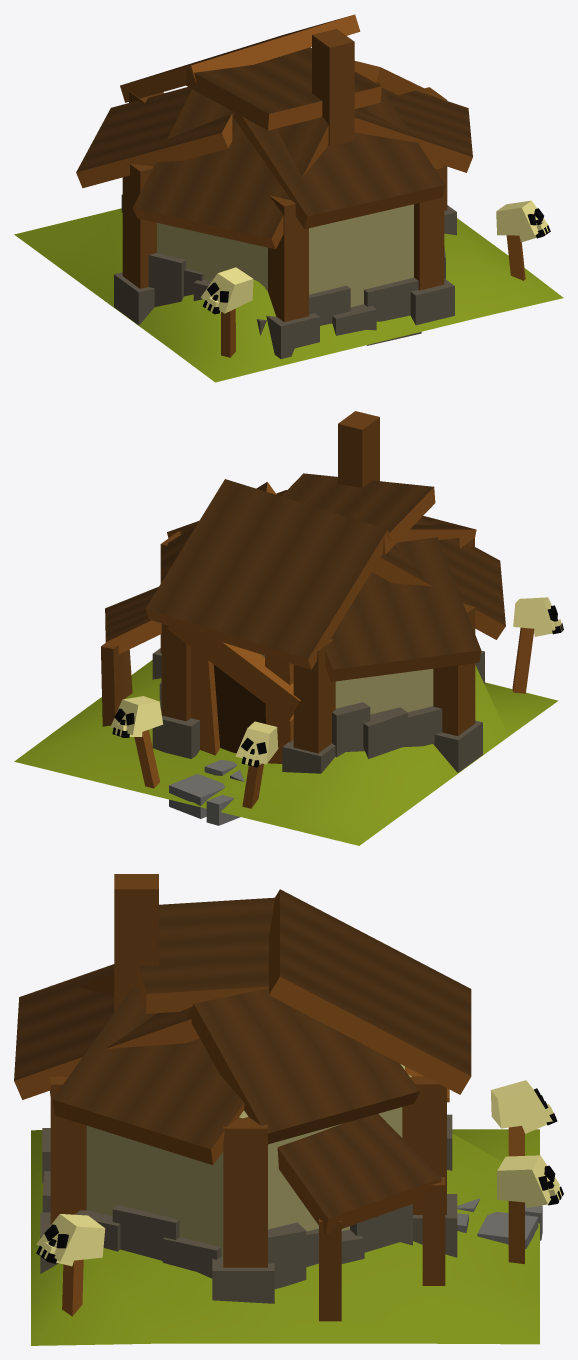
The model's file is witchhut.fbx.
3 views of the same model, one above another, from view 1: azimuth 30°, elevation 25°; view 2: azimuth 150°, elevation 25°; view 3: azimuth 270°, elevation 25° (orthographic). The views are drawn at different scales.
Visible parts, largest first — view 1: polySurface3657; view 2: polySurface3657; view 3: polySurface3657.
Boxes of the visible parts, bbox=[...] form: polySurface3657: bbox=[14, 14, 563, 382]; polySurface3657: bbox=[14, 411, 563, 845]; polySurface3657: bbox=[14, 874, 563, 1345].
Size of the model in its own units: 109 by 78.72 by 108.
1 material, 1 textured.
